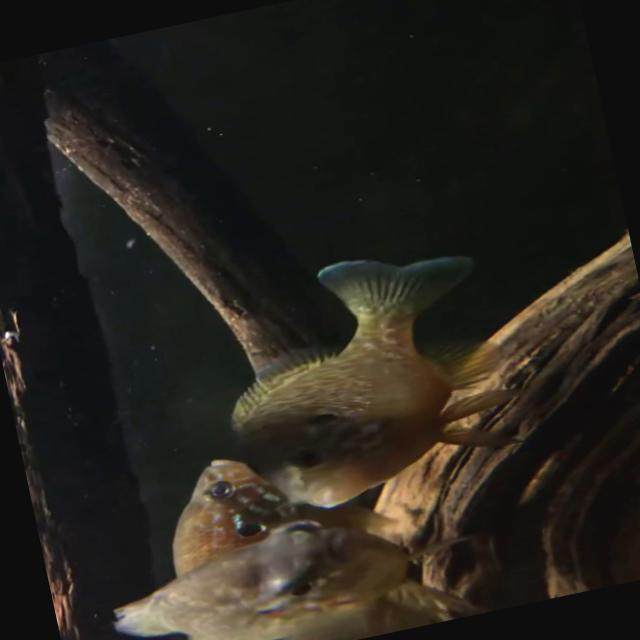Gunes Levregi: (197, 225, 544, 526), (93, 486, 487, 640)
